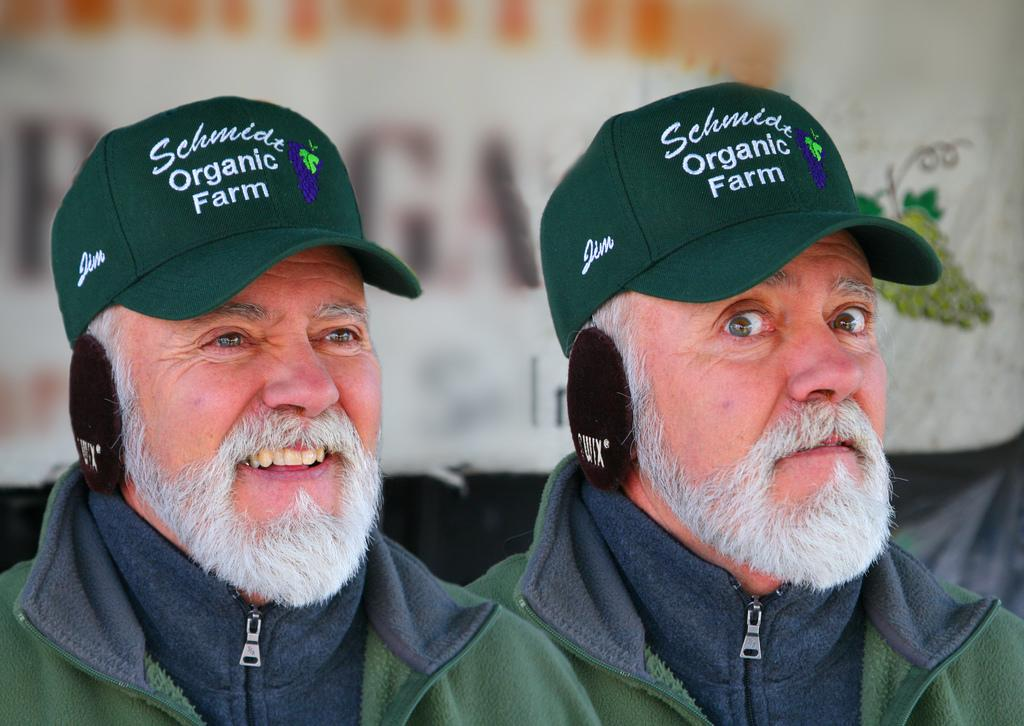Hat: (540, 79, 938, 357), (52, 88, 424, 348)
